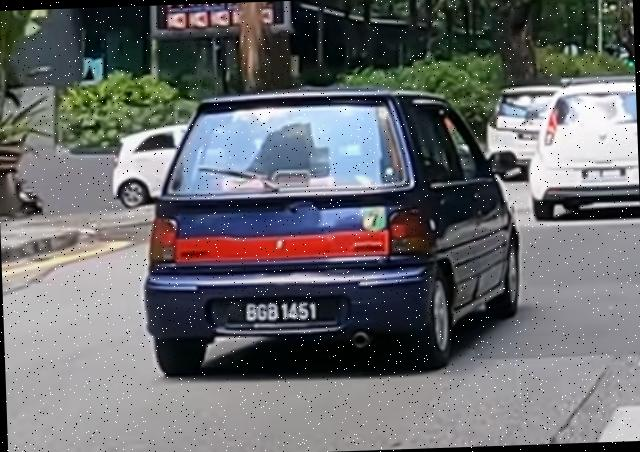License_Plate: (226, 299, 338, 332)
car: (136, 78, 525, 382)
